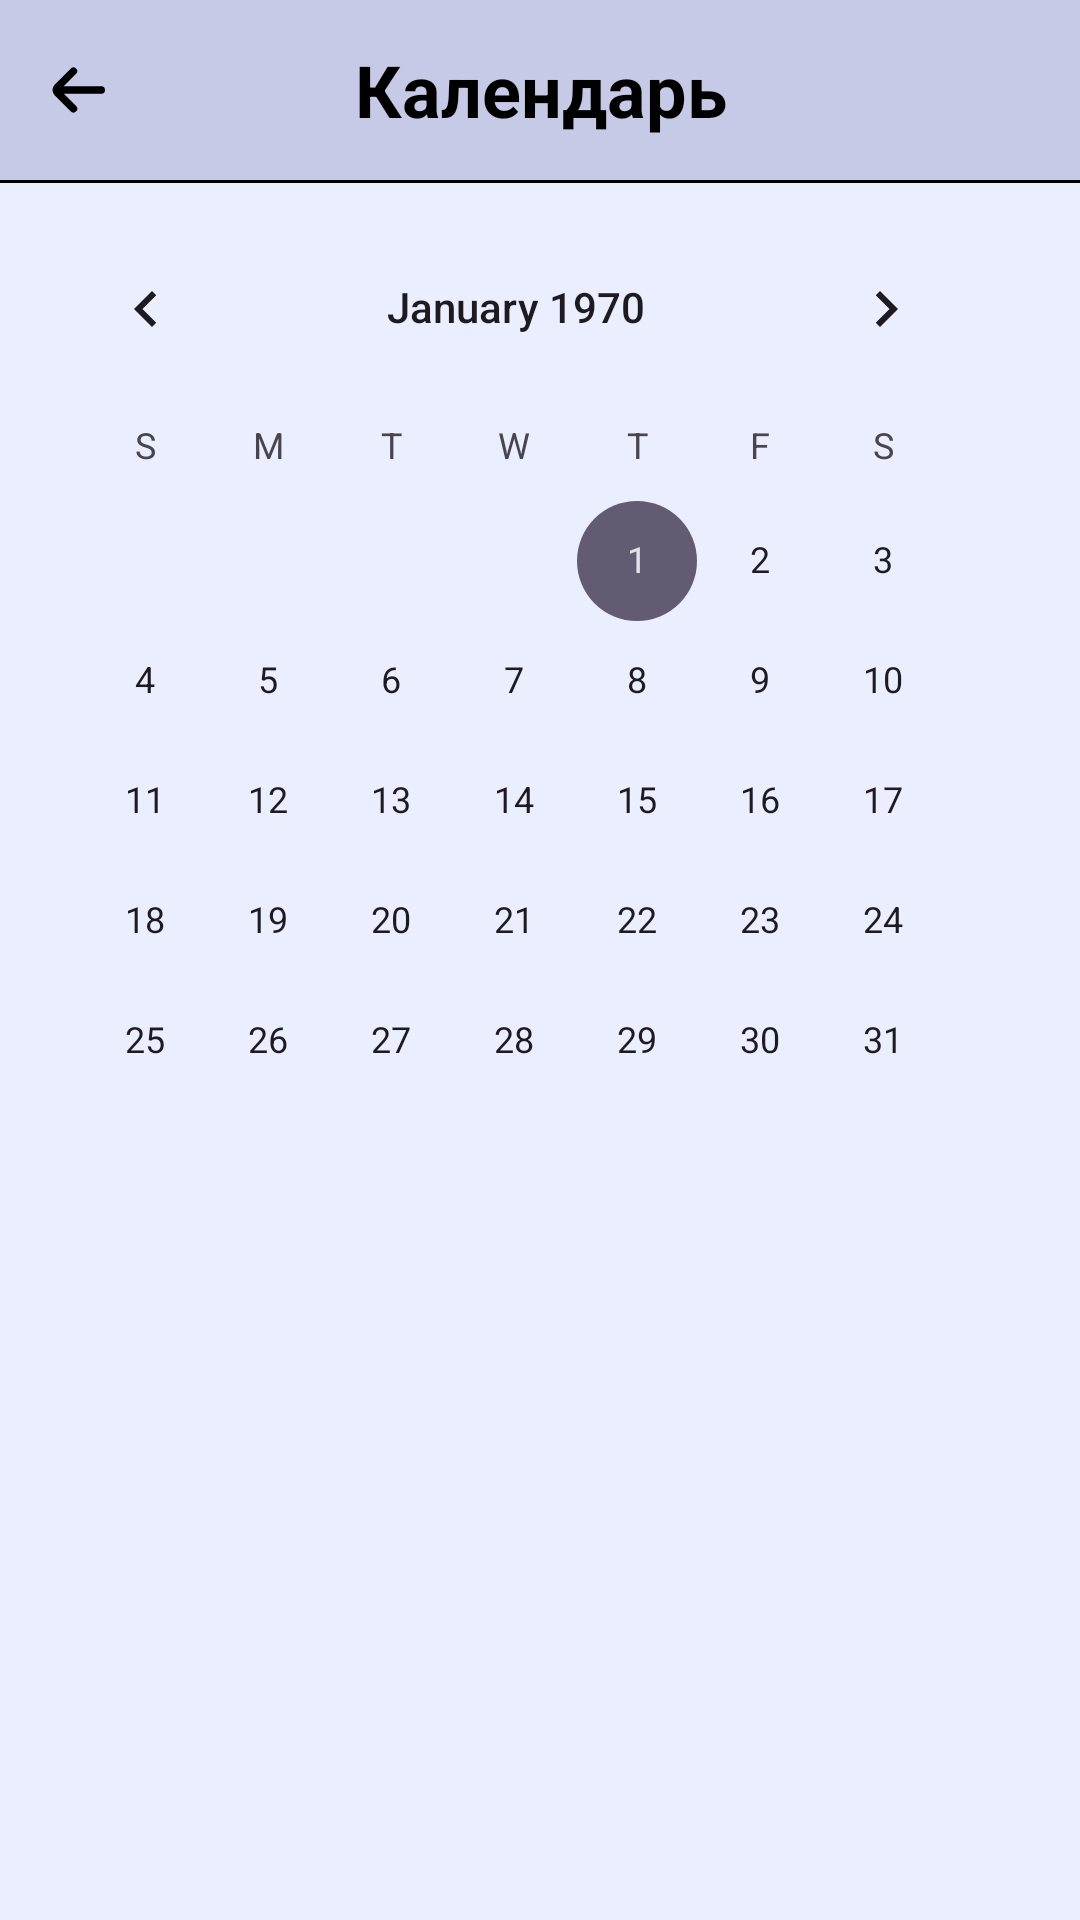

Icon click points for this 1080 x 1920 phone screenshot, format [x,y]:
Назад: [78,90]
